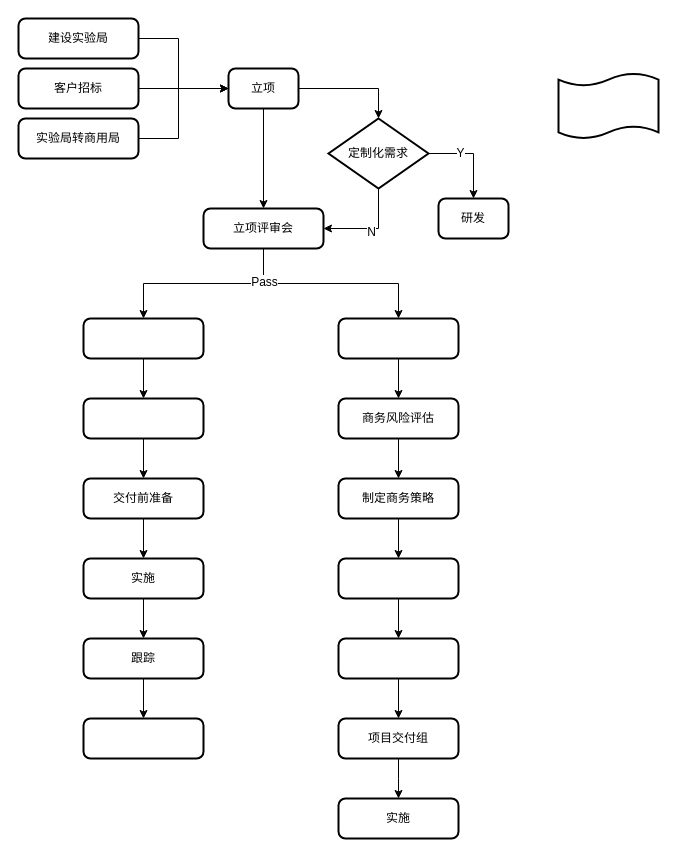
Some shapes in this 676 by 856 pixel diagram are drawn without their labels. The centre of each missing label's shape, as x and y in pixels:
"商用局" belongs at point 398,338.
"实验局" belongs at point 143,338.
"建设规划" belongs at point 143,418.
"投标准备" belongs at point 398,578.
"投标项目组" belongs at point 398,658.
"立项申请表 定制化需求表" belongs at point 608,105.
"结项" belongs at point 143,738.
